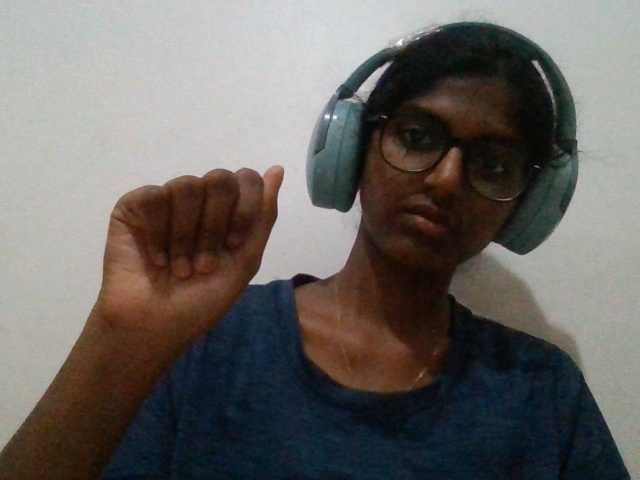A: (44, 153, 301, 407)
